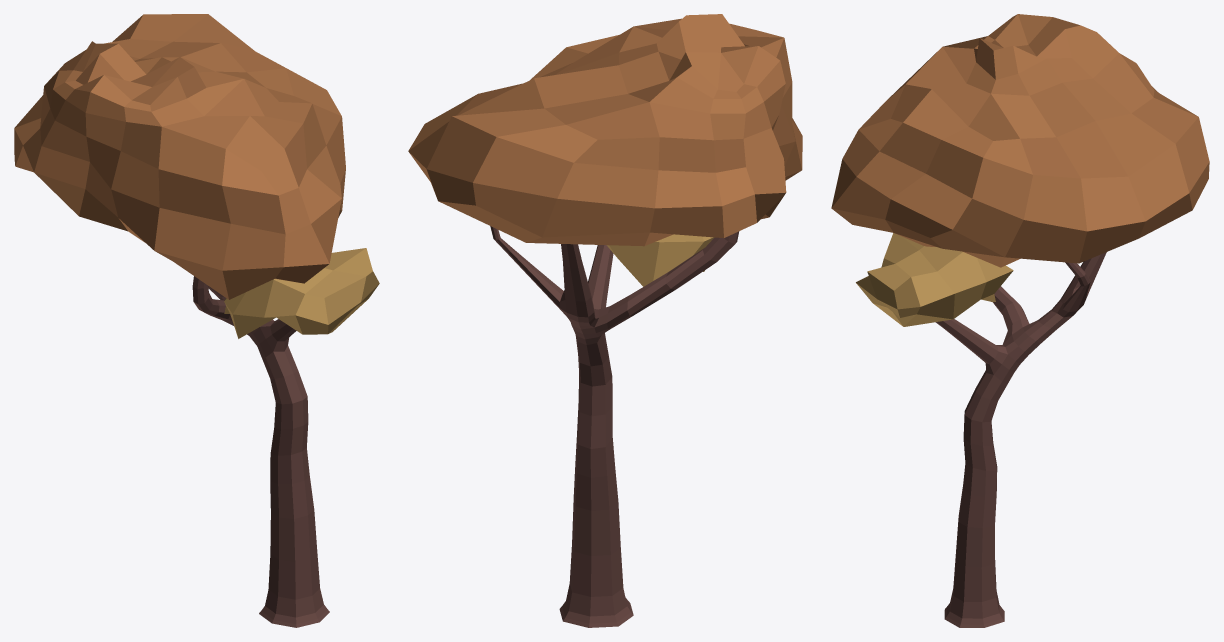
File: CommonTree_Autumn_4.glb
The picture shows the model from 3 angles, left to right: view 1: azimuth 30°, elevation 25°; view 2: azimuth 150°, elevation 25°; view 3: azimuth 270°, elevation 25°; orthographic projection. The views are drawn at different scales.
Parts seen in each view (by area): view 1: Orange, Wood, LightOrange; view 2: Orange, Wood, LightOrange; view 3: Orange, Wood, LightOrange.
Part boxes in pixels (bbox=[...]): Orange: bbox=[14, 14, 345, 299]; Wood: bbox=[192, 276, 329, 627]; LightOrange: bbox=[224, 248, 379, 338]; Orange: bbox=[408, 14, 802, 246]; Wood: bbox=[490, 226, 739, 627]; LightOrange: bbox=[606, 234, 714, 286]; Orange: bbox=[831, 14, 1209, 267]; Wood: bbox=[936, 252, 1106, 627]; LightOrange: bbox=[856, 233, 1013, 326].
Size of the model in its own units: 1.58 by 2.78 by 1.8.
